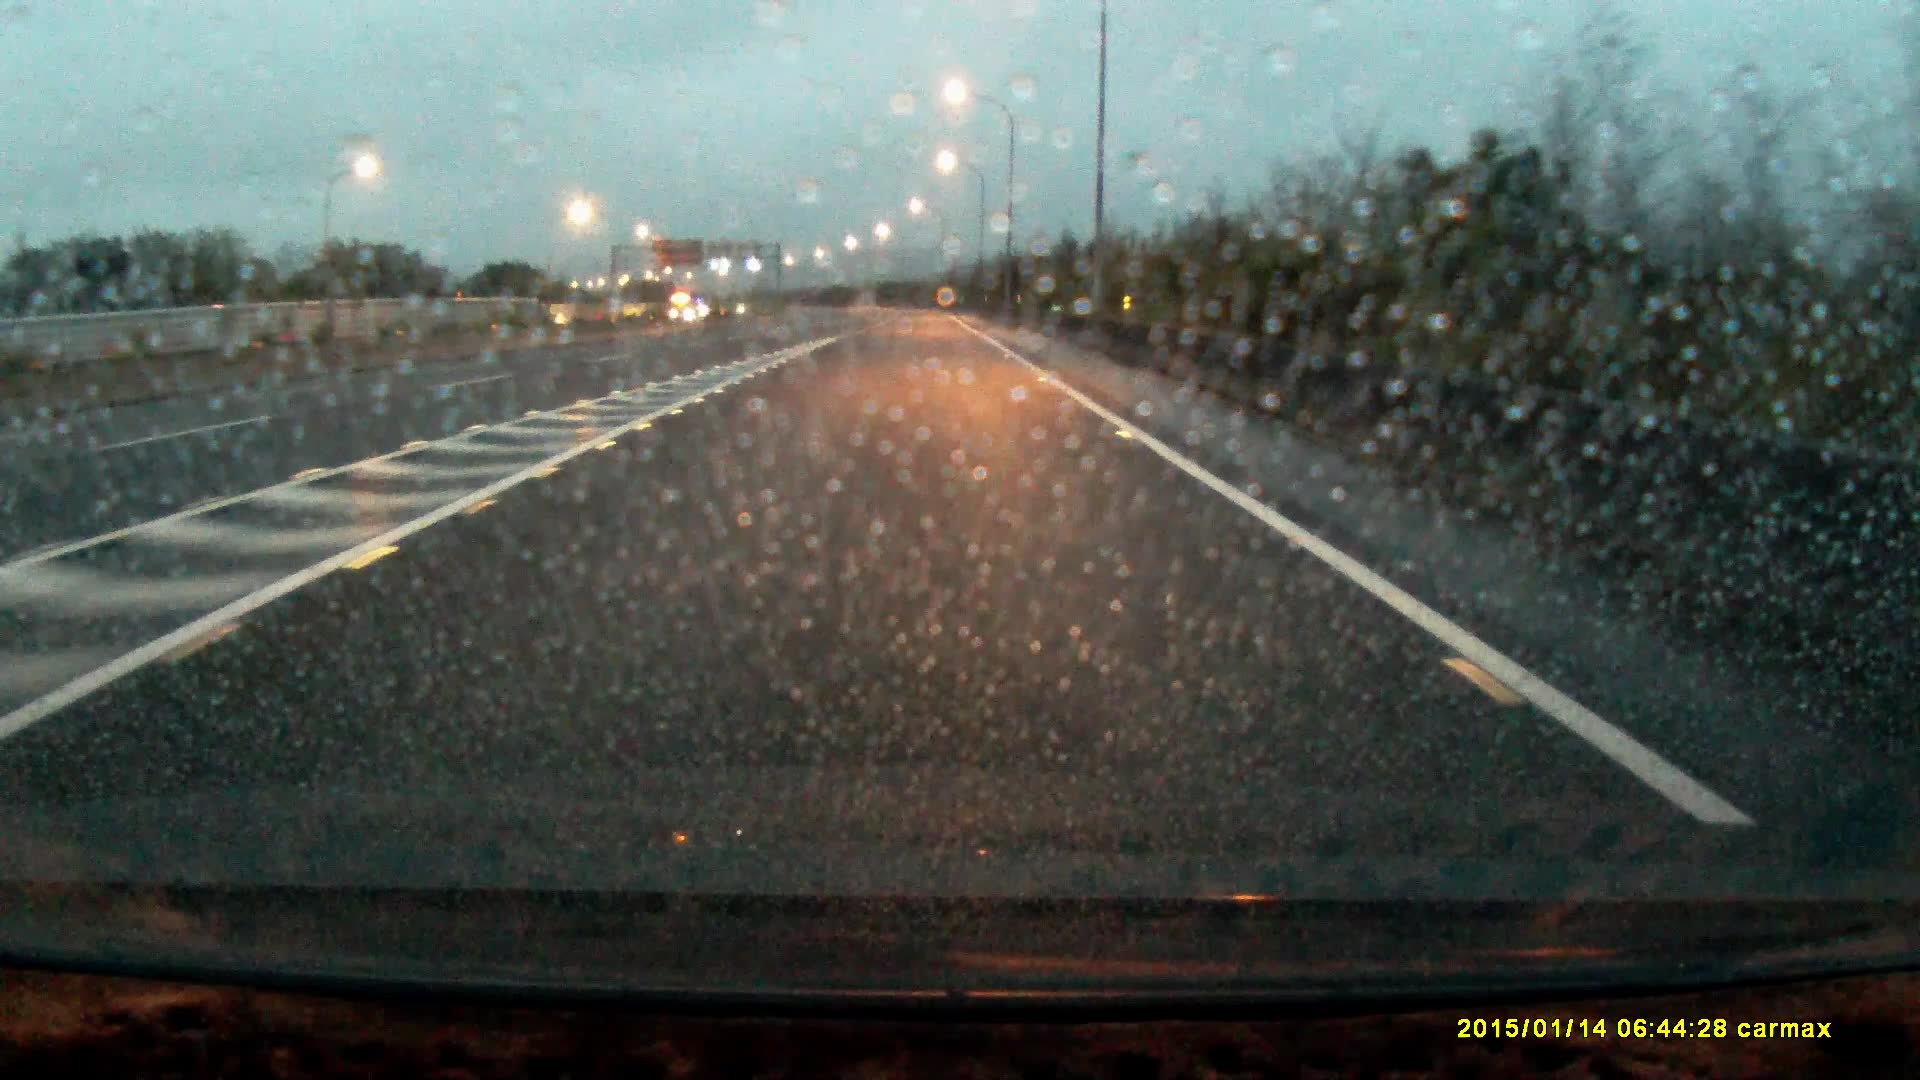vehicle: (669, 298, 702, 326)
